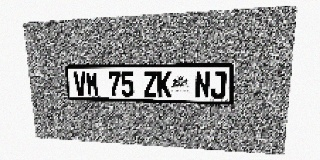5: (121, 71, 134, 97)
7: (107, 72, 121, 97)
J: (210, 71, 226, 99)
K: (157, 71, 171, 98)
M: (85, 72, 99, 96)
N: (195, 71, 210, 98)
V: (73, 72, 87, 96)
Z: (143, 71, 157, 97)
